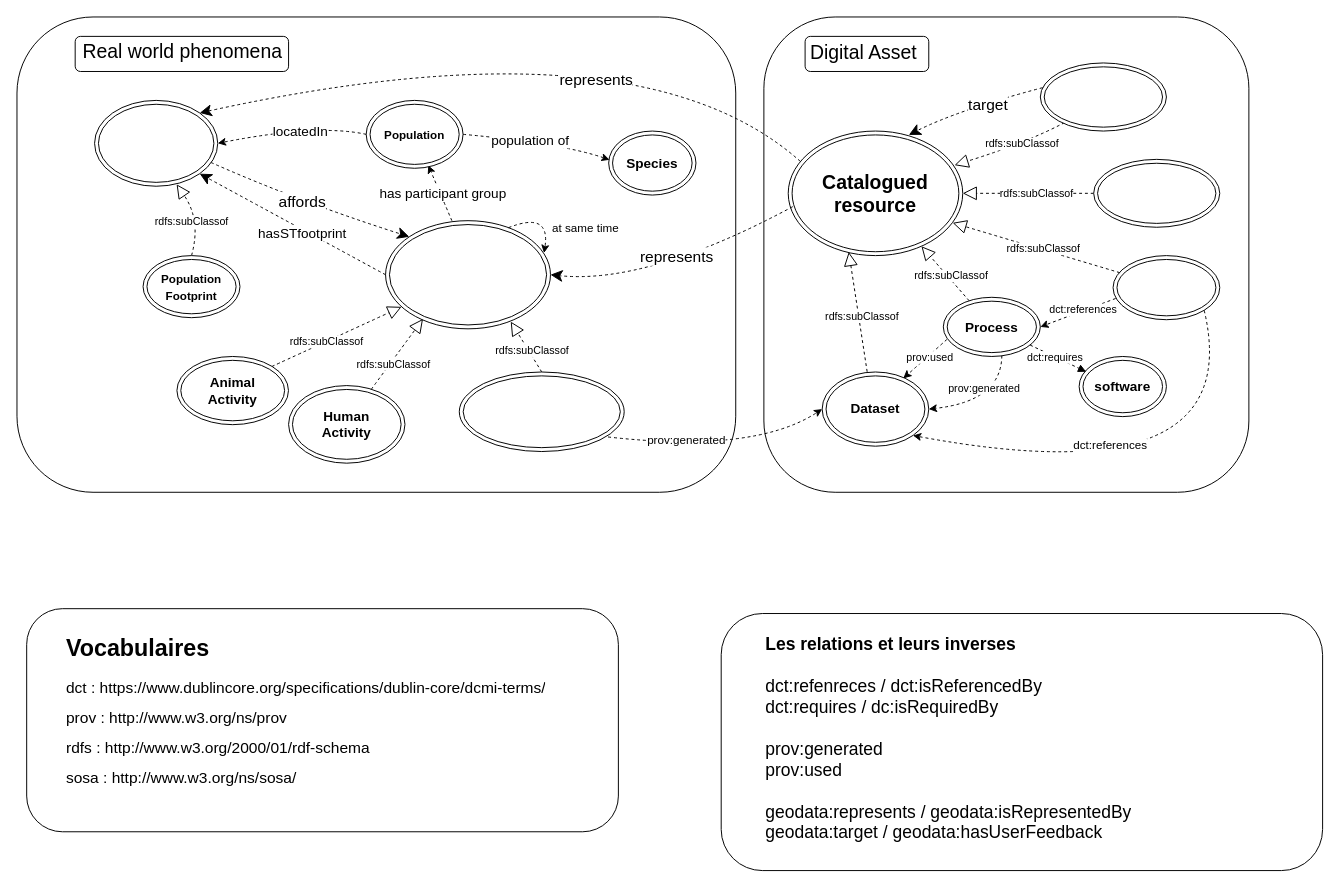
Image size: 1340x890. Some labels were removed from this diagram. The centre of each missing label's shape, as x and y in pixels:
Activity: (x=467, y=274)
LandEntity: (x=156, y=142)
Observation Or SurveyProcess: (x=541, y=411)
Scientific Paper: (x=1166, y=287)
Technical Document: (x=1156, y=192)
User Feedback: (x=1102, y=96)
